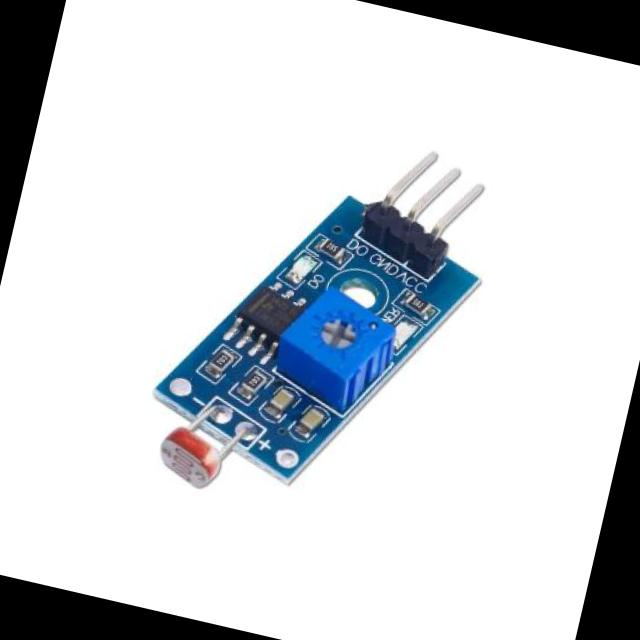IC: (228, 276, 303, 350)
LED: (285, 250, 314, 286), (389, 317, 413, 348)
capacitor: (293, 399, 324, 432), (266, 382, 295, 416)
connector: (364, 138, 494, 274)
potentiometer: (271, 278, 404, 402)
resistor: (208, 343, 236, 379), (241, 365, 268, 397), (401, 293, 432, 316), (316, 236, 346, 254)
